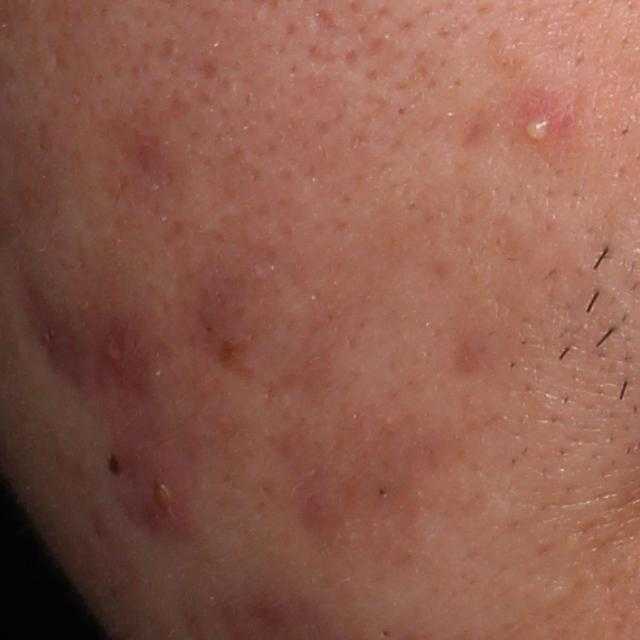atrophic_scar: (15, 262, 124, 398), (102, 115, 178, 219)
hypertrophic_scar: (532, 577, 572, 612)
nevus: (103, 451, 123, 479)
pustule: (524, 112, 550, 144)
